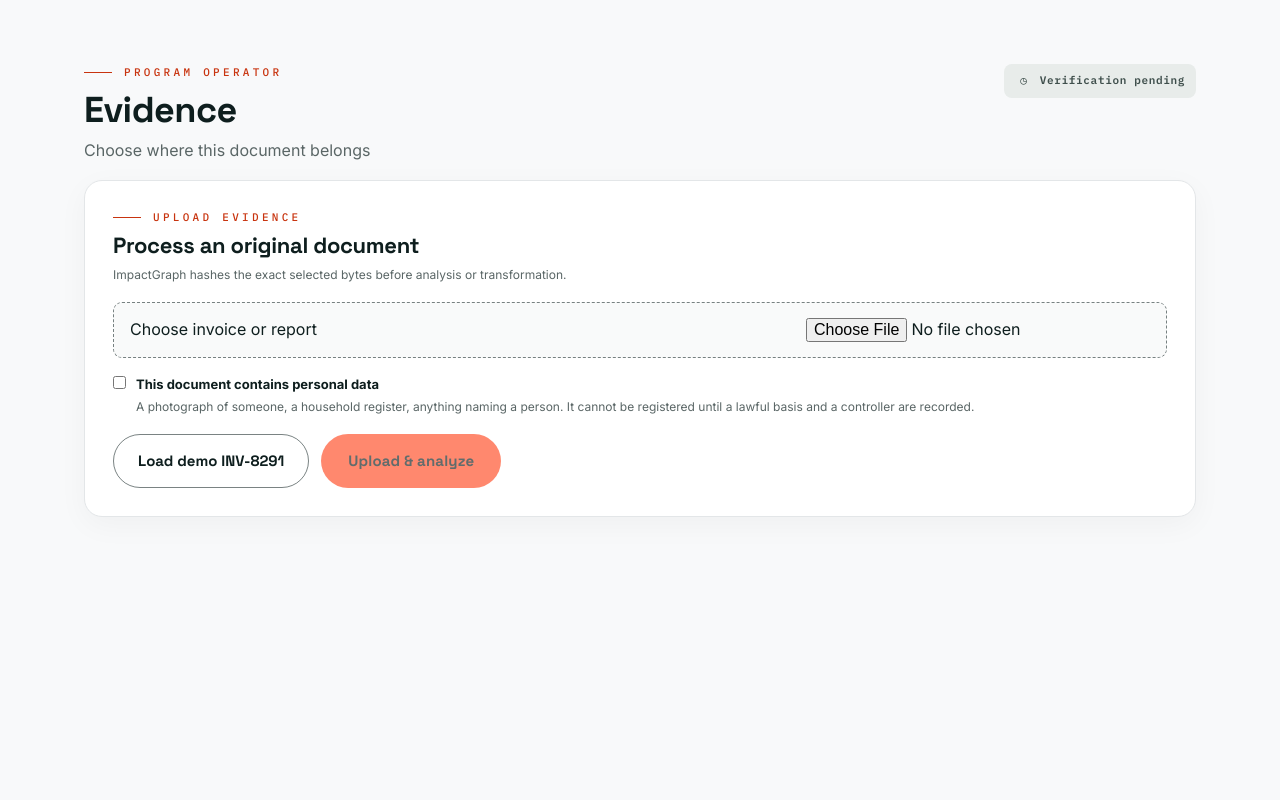
Test: Operator evidence workflow › uploads, analyzes, reviews, submits, and confirms evidence in order
Click the button "Load demo INV-8291" at point(211, 461), box [113, 434, 309, 488]
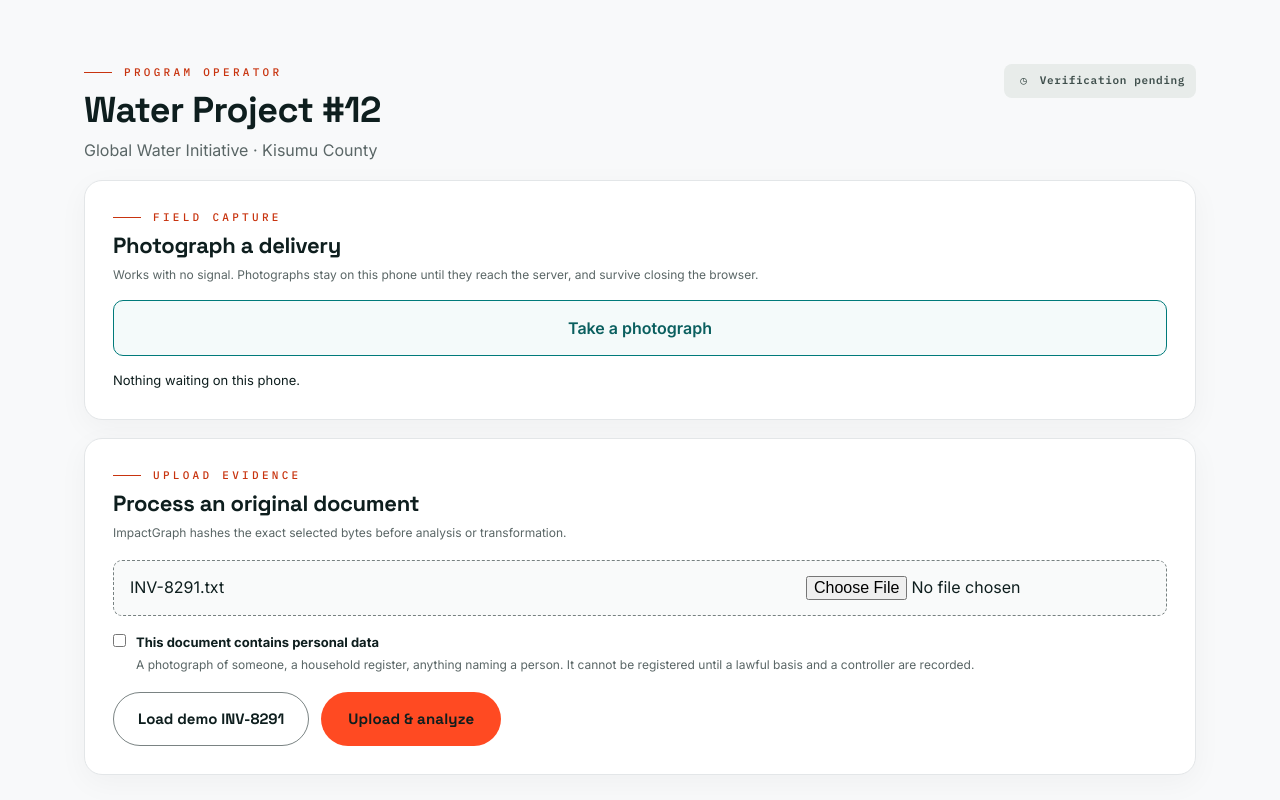
Check: the button "Upload & analyze" is enabled
Click the button "Upload & analyze" at point(411, 719), box [321, 692, 501, 746]
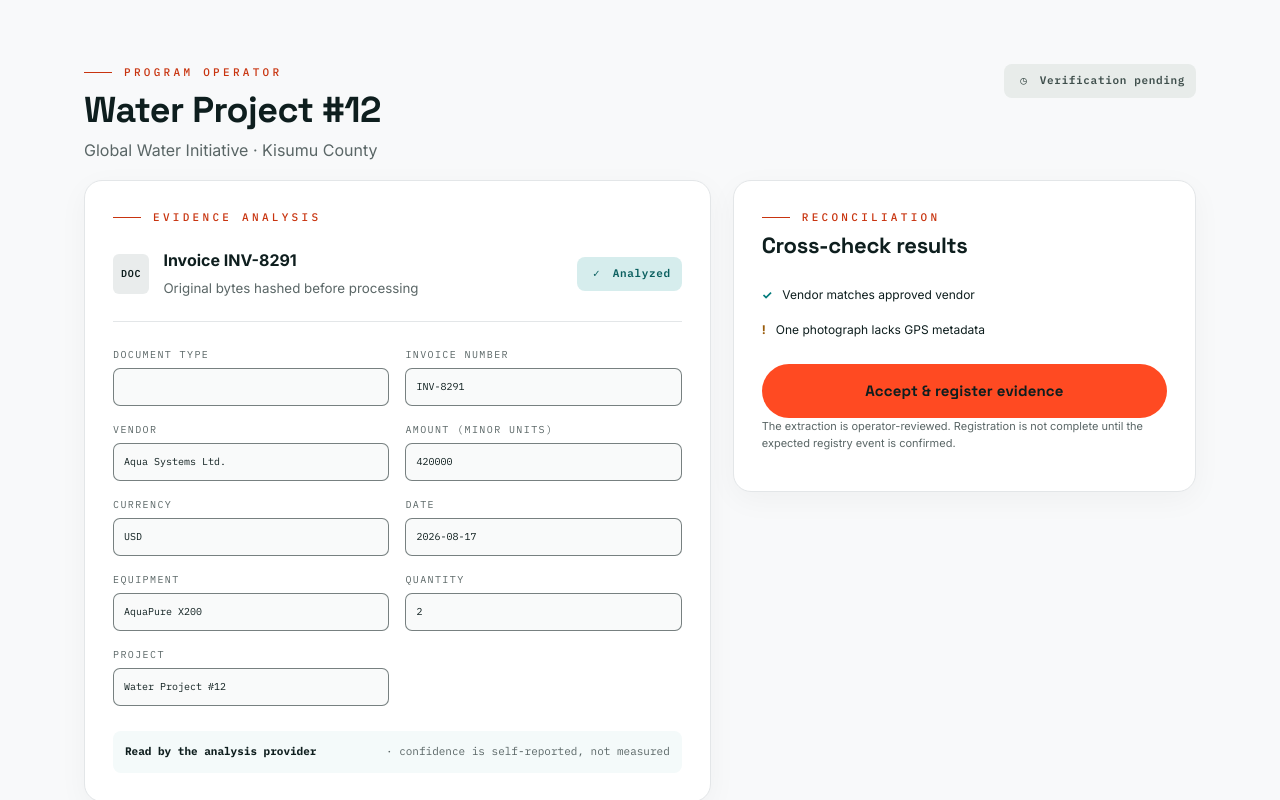
Check: the text "Invoice INV-8291" is shown, box [163, 250, 297, 270]
Click the button "Accept & register evidence" at point(964, 390), box [762, 364, 1167, 418]
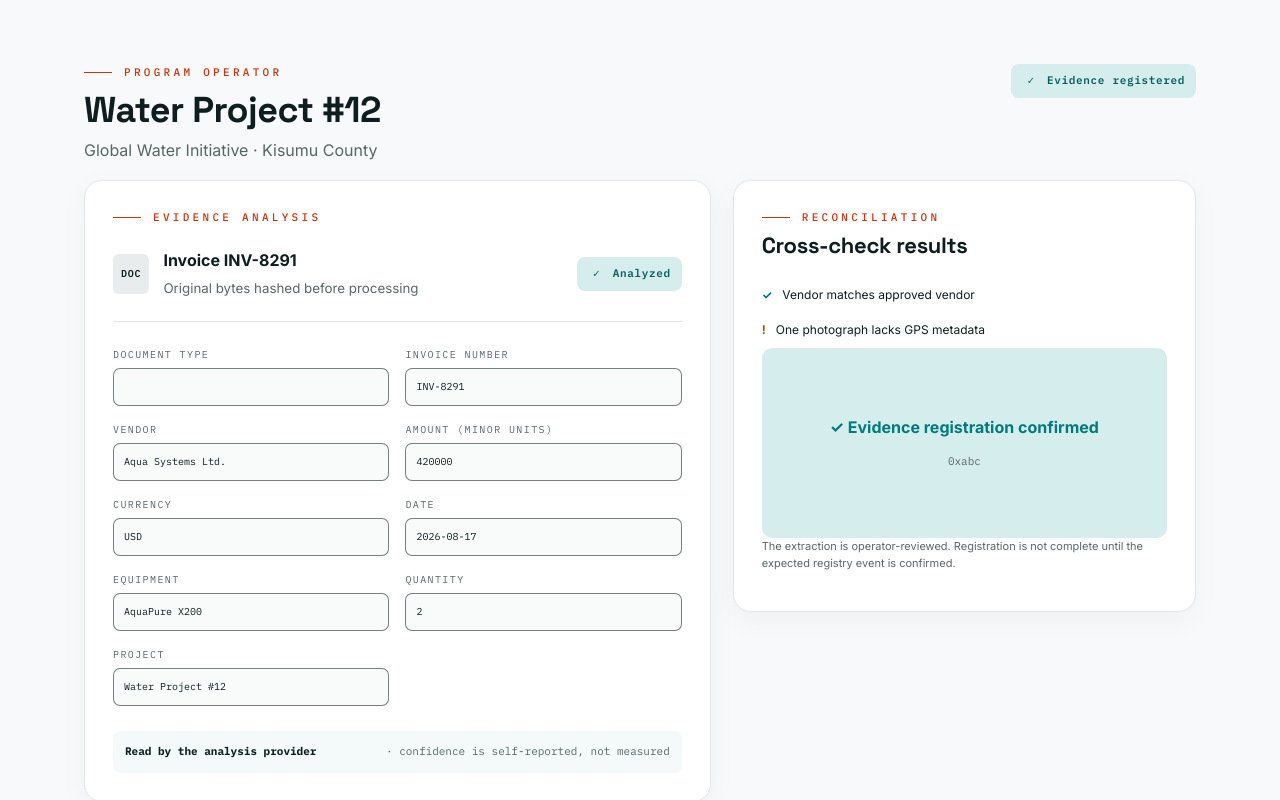
Check: the text "✓ Evidence registration confirmed" is shown, box [830, 415, 1099, 441]
